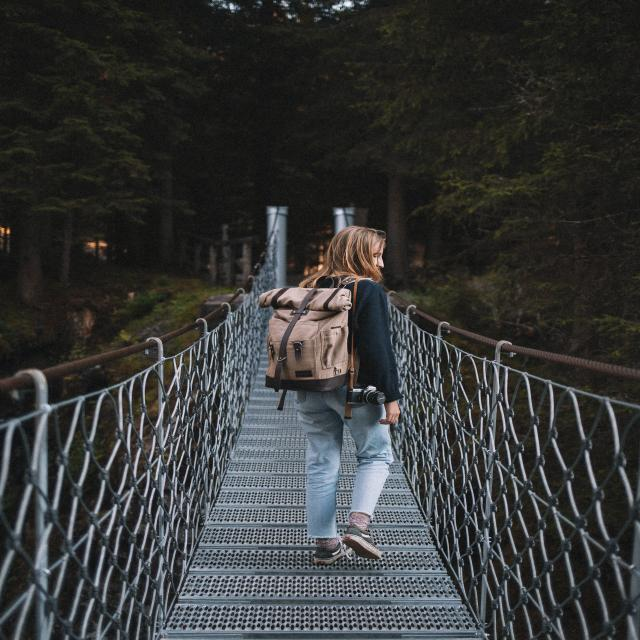backpack: (260, 277, 355, 393)
